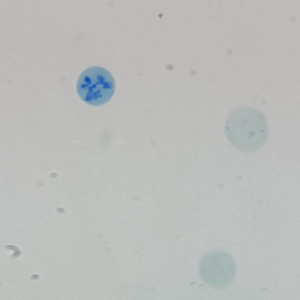aggregate reticulocyte: (75, 65, 117, 107)
erythrocyte: (196, 249, 238, 289)
punctate reticulocyte: (223, 106, 270, 154)
